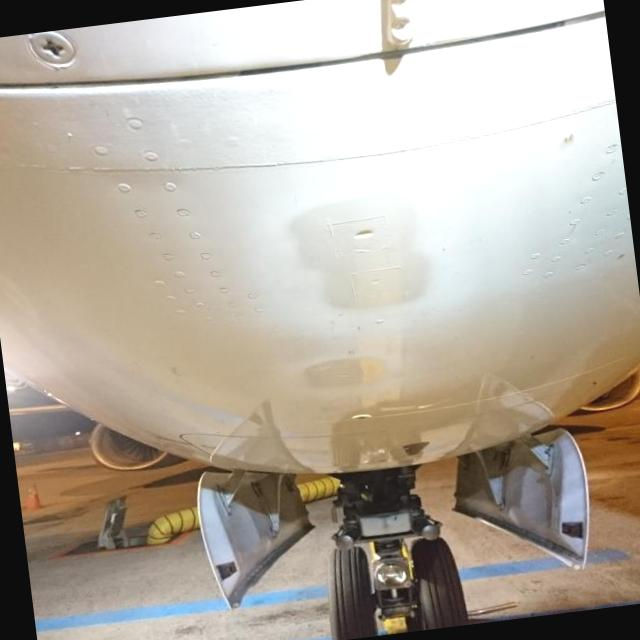dent: (351, 223, 380, 240), (367, 276, 382, 286)
